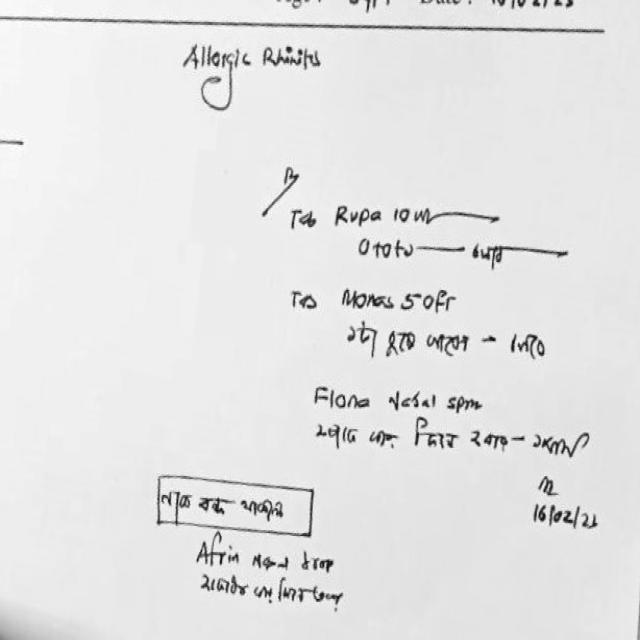medicine: (333, 280, 401, 320), (327, 193, 390, 234)
